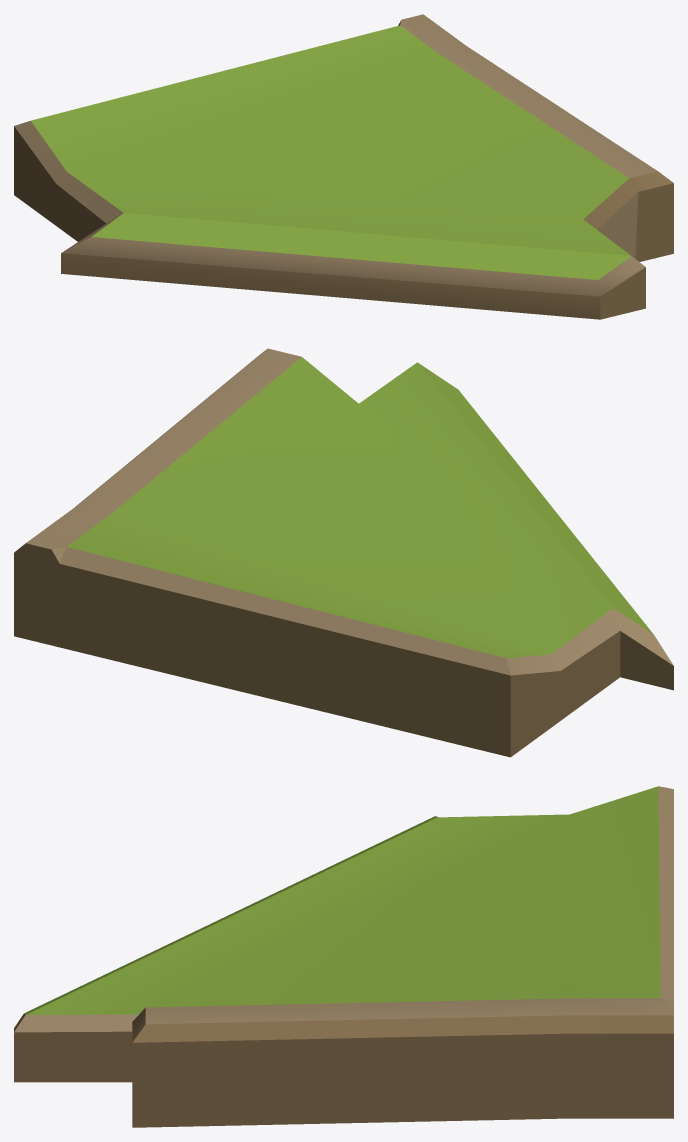
Rendered from SM_Island.fbx.
3 views of the same model, one above another, from view 1: azimuth 30°, elevation 25°; view 2: azimuth 150°, elevation 25°; view 3: azimuth 270°, elevation 25° (orthographic). The views are drawn at different scales.
Parts seen in each view (by area): view 1: SM_Island; view 2: SM_Island; view 3: SM_Island.
Part boxes in pixels (<box>): SM_Island: <box>14,14,673,319</box>; SM_Island: <box>14,348,673,757</box>; SM_Island: <box>14,786,673,1127</box>.
Bounding box in the file's own units: 10.05 × 1.62 × 9.93.
